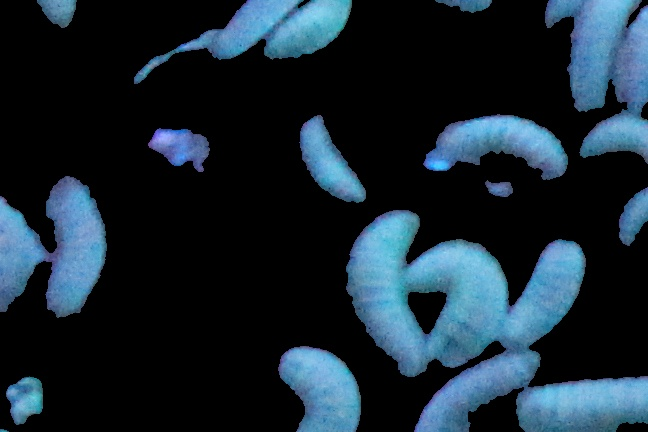larvae: (343, 209, 434, 382), (402, 238, 512, 370), (492, 238, 592, 355), (412, 348, 540, 432), (39, 172, 109, 323), (433, 113, 567, 191), (276, 346, 367, 432), (515, 375, 648, 432), (564, 1, 628, 111), (300, 116, 368, 216), (209, 1, 301, 61), (263, 1, 352, 57), (612, 9, 648, 111), (580, 116, 648, 162)
